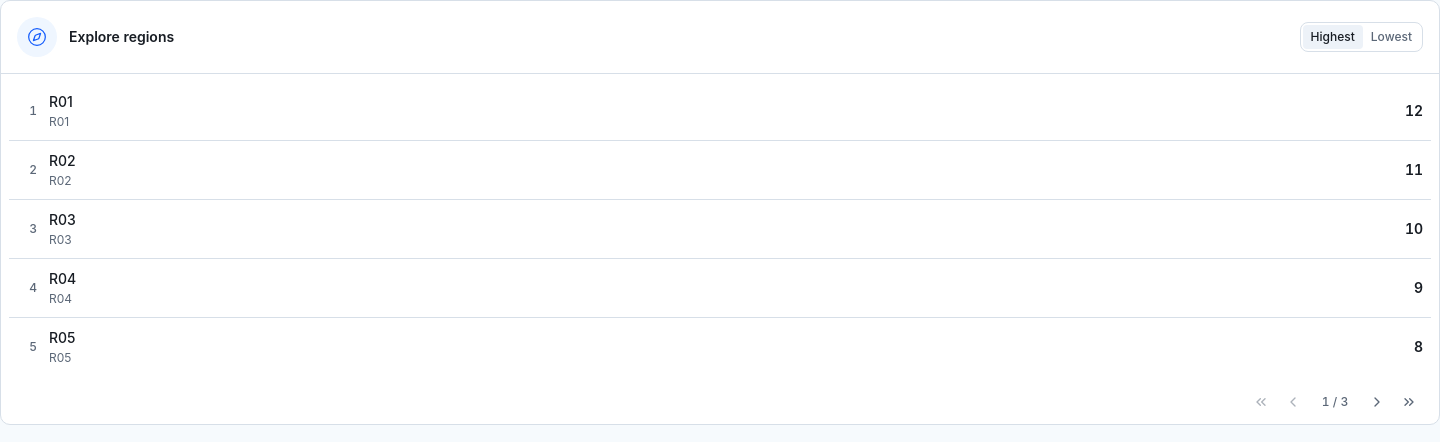
paginates five regions at a time with first, previous, next, and last controls
The width and height of the screenshot is (1440, 442).
Expected: the number of list items is 5, [9,82,1431,141]; [9,141,1431,200]; [9,200,1431,259]; [9,259,1431,318]; [9,318,1431,376]
Expected: the text named "Page 1 of 3" is shown, [1322,394,1348,409]
Click the button named "Next page".
click(1377, 402)  # box [1363,388,1391,416]
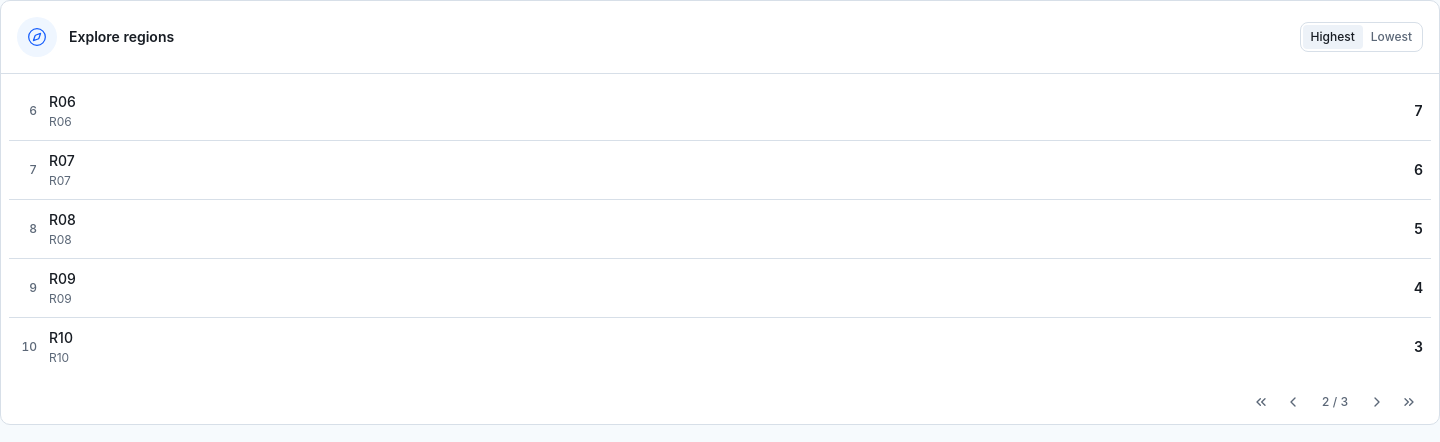
Expected: the text named "Page 2 of 3" is shown, [1322,394,1348,409]
Expected: the list item "6 R06 R06 7" is shown, [9,82,1431,141]
Click the button named "Previous page".
click(1293, 402)  # box [1279,388,1307,416]
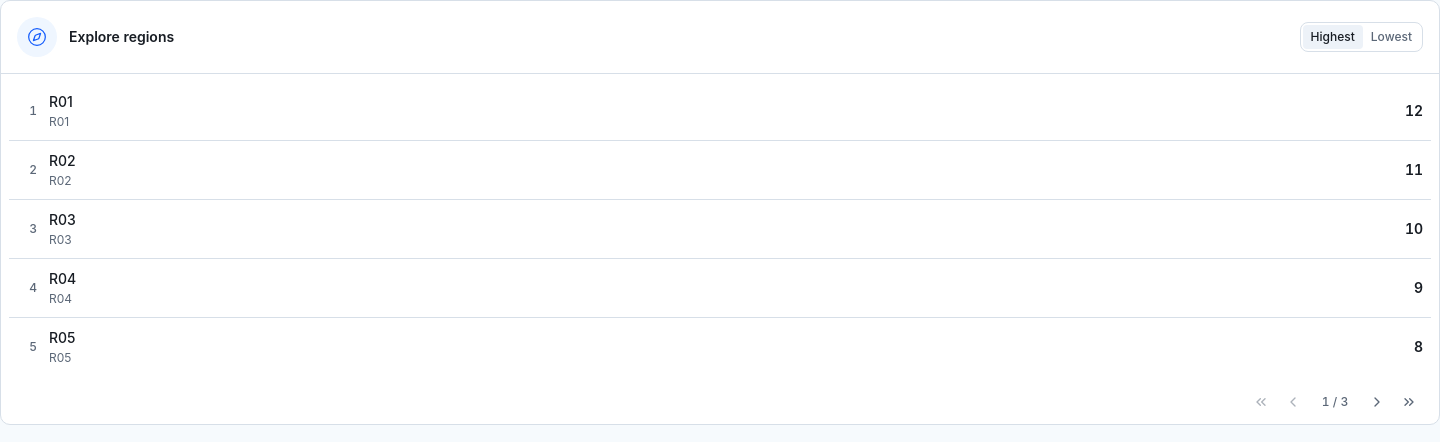
Expected: the text named "Page 1 of 3" is shown, [1322,394,1348,409]
Click the button named "Last page".
click(1409, 402)  # box [1395,388,1423,416]
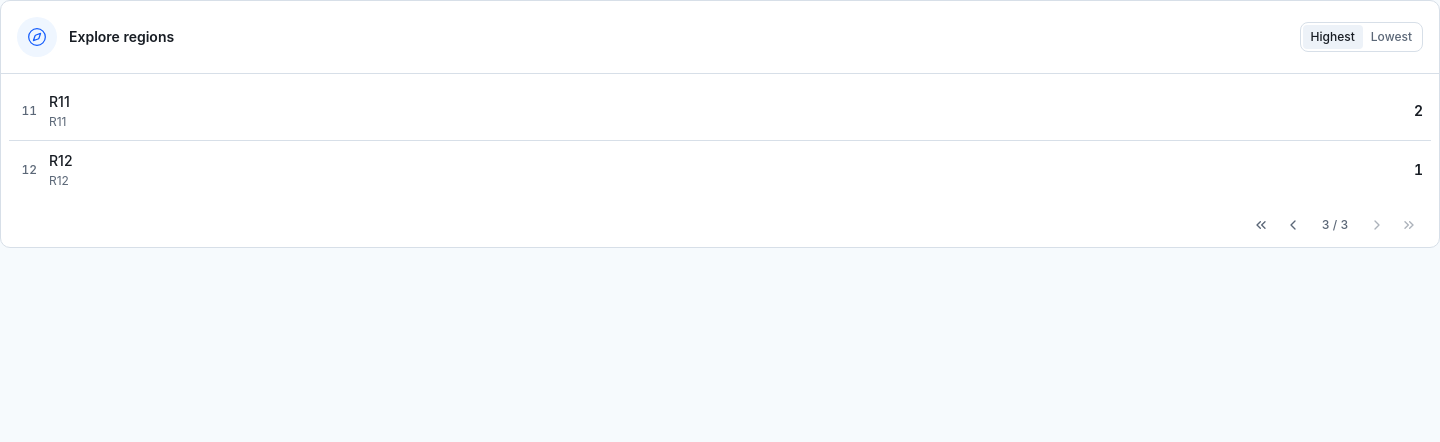
Expected: the text named "Page 3 of 3" is shown, [1322,217,1348,232]
Expected: the number of list items is 2, [9,82,1431,141]; [9,141,1431,199]
Expected: the list item "11 R11 R11 2" is shown, [9,82,1431,141]
Click the button named "First page".
click(1261, 225)  # box [1247,211,1275,239]
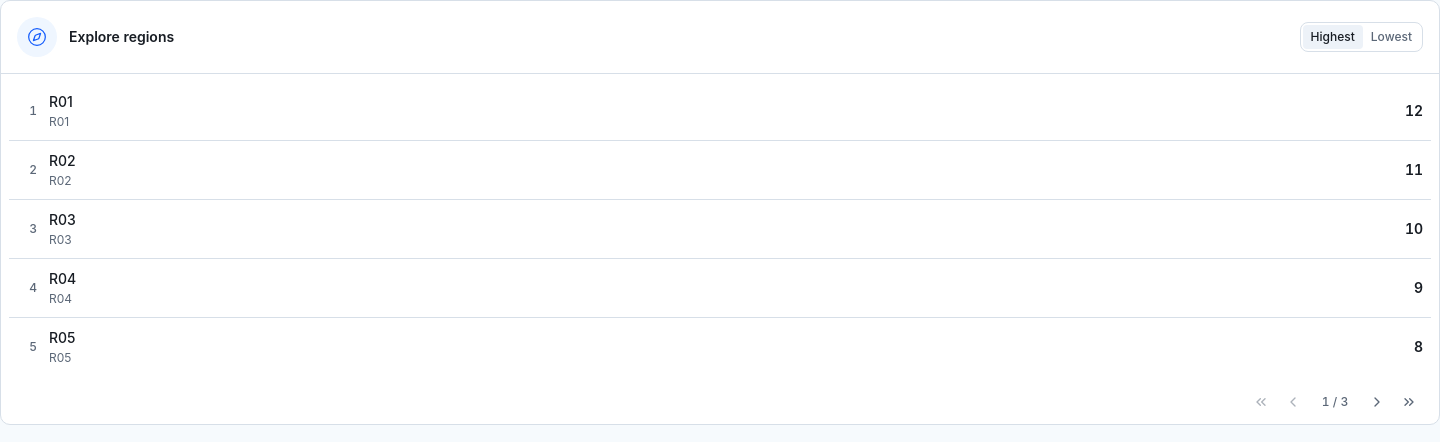
Expected: the text named "Page 1 of 3" is shown, [1322,394,1348,409]
